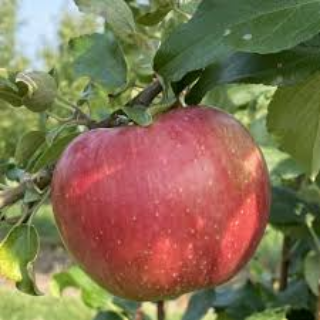tao: (46, 97, 275, 307)
